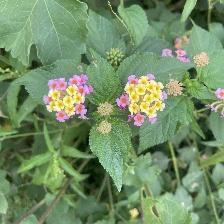common lanthana: (42, 71, 98, 127), (122, 73, 169, 127), (209, 84, 224, 117)
